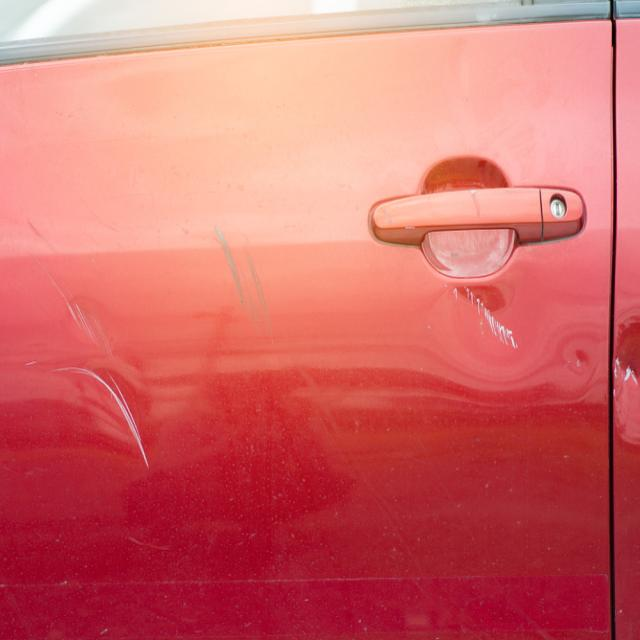Cabossage: (614, 331, 640, 442), (558, 326, 595, 393)
Rayure: (26, 271, 152, 490), (206, 214, 283, 346), (450, 281, 525, 354)
